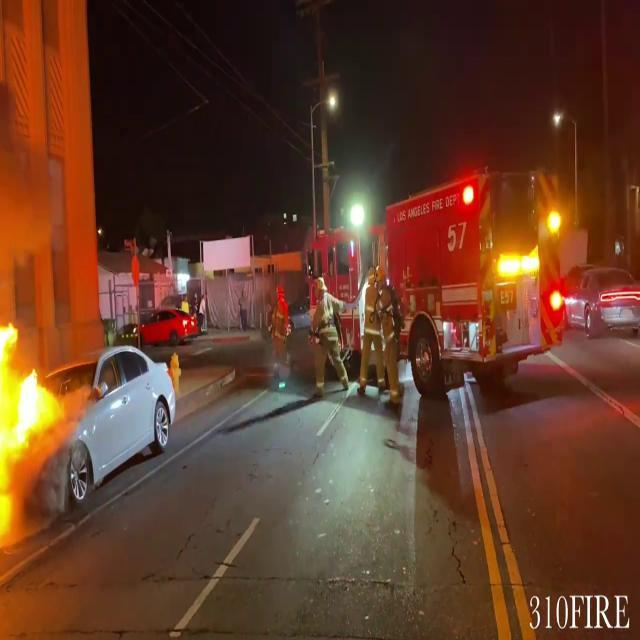Fire: (0, 218, 52, 520)
